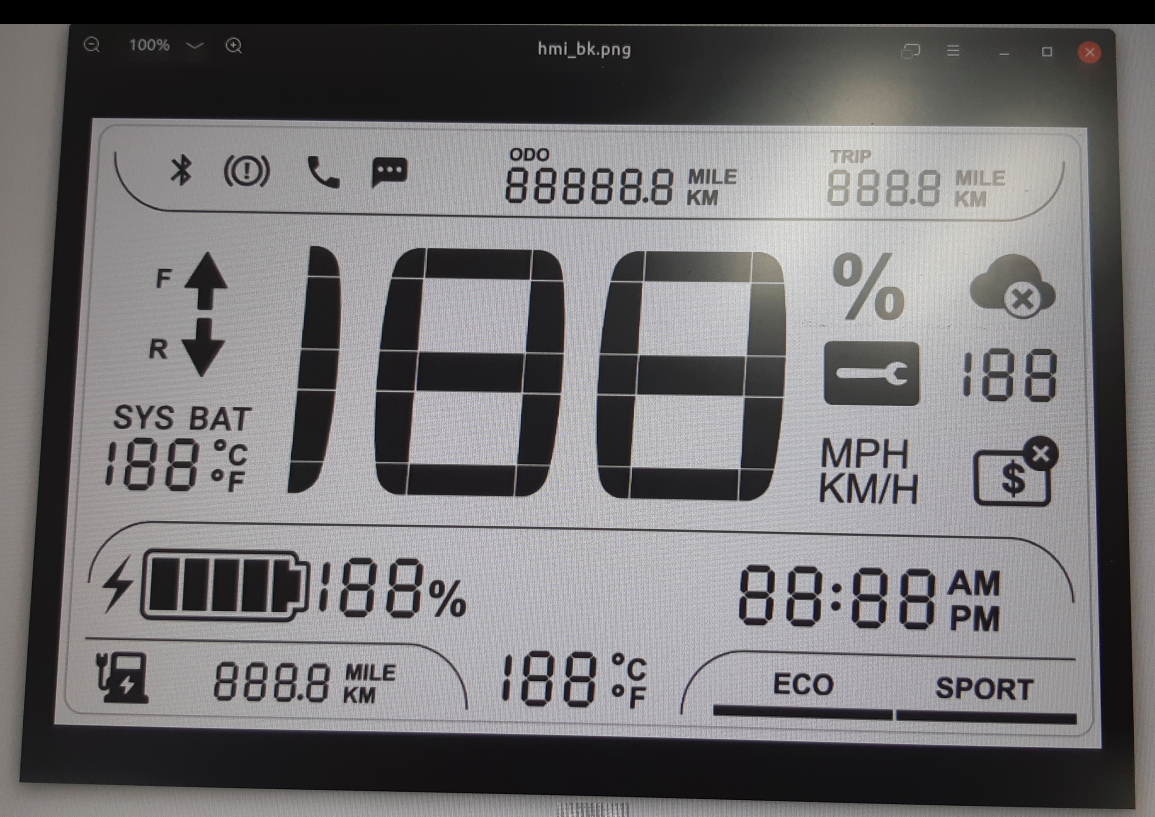bluetooth_on: (165, 149, 196, 190)
braking_on: (218, 151, 274, 190)
calling_on: (302, 152, 348, 192)
connection_lost: (965, 251, 1063, 324)
error_code: (818, 336, 925, 411)
low_battery: (90, 645, 155, 706)
sms_on: (365, 151, 413, 194)
vin_id: (968, 431, 1063, 512)
